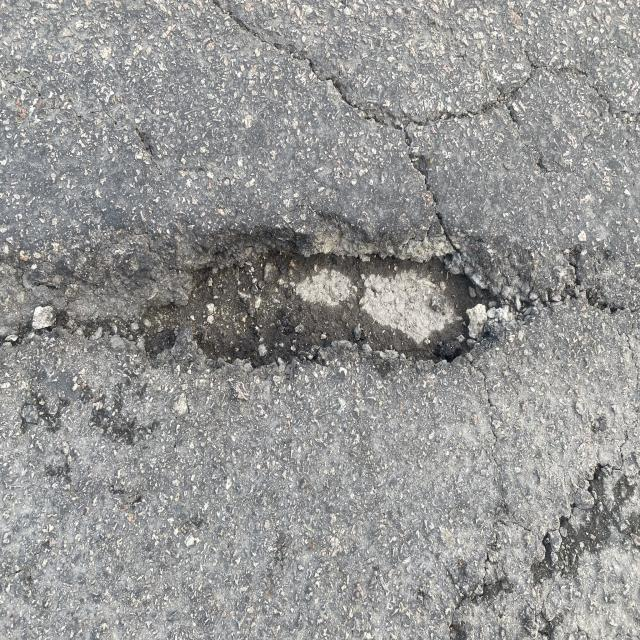Pothole: (175, 210, 548, 393)
